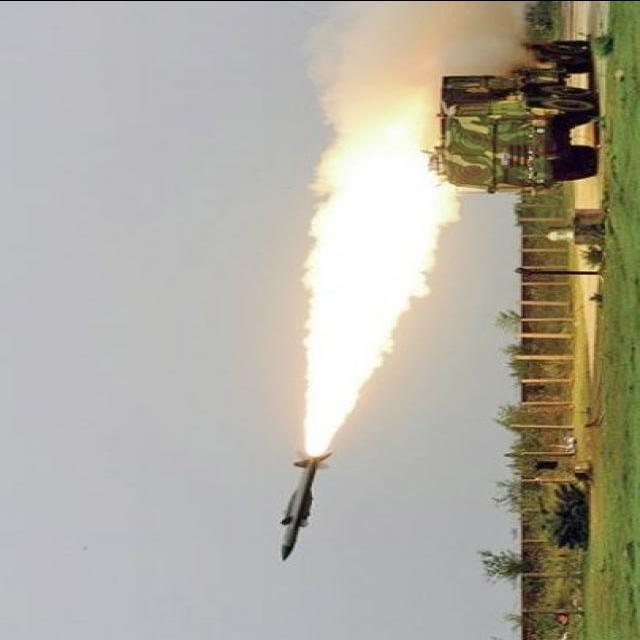missile: (271, 445, 334, 565)
